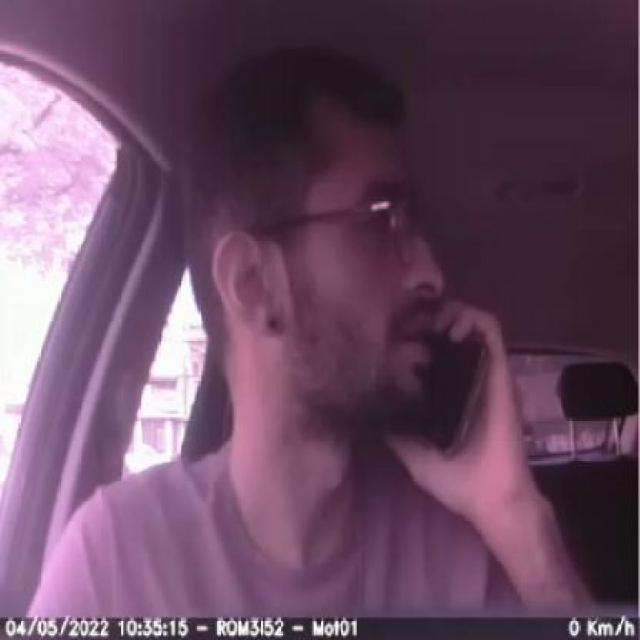using_phone: (341, 230, 522, 500)
